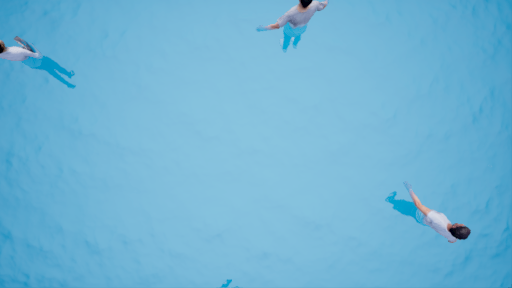person: (380, 180, 475, 248), (1, 35, 84, 88), (258, 1, 335, 56)
